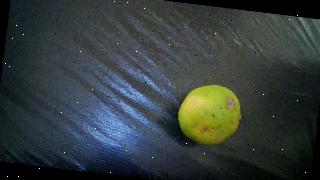DESECHO: (175, 81, 244, 148)
